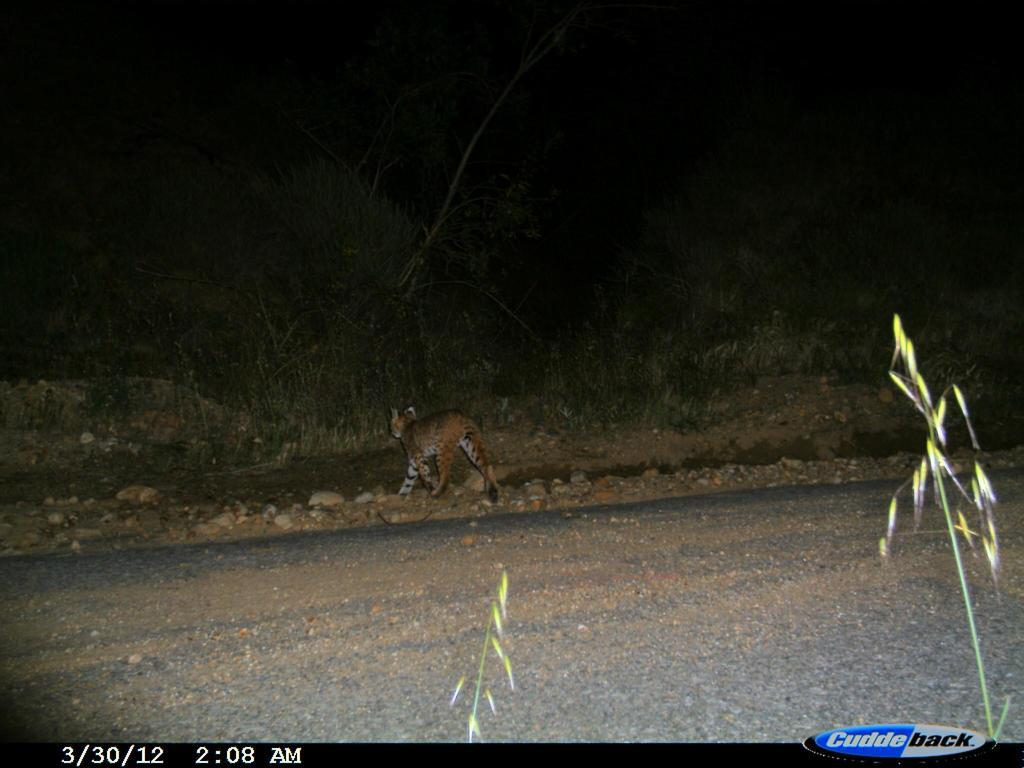bobcat: (378, 397, 510, 510)
